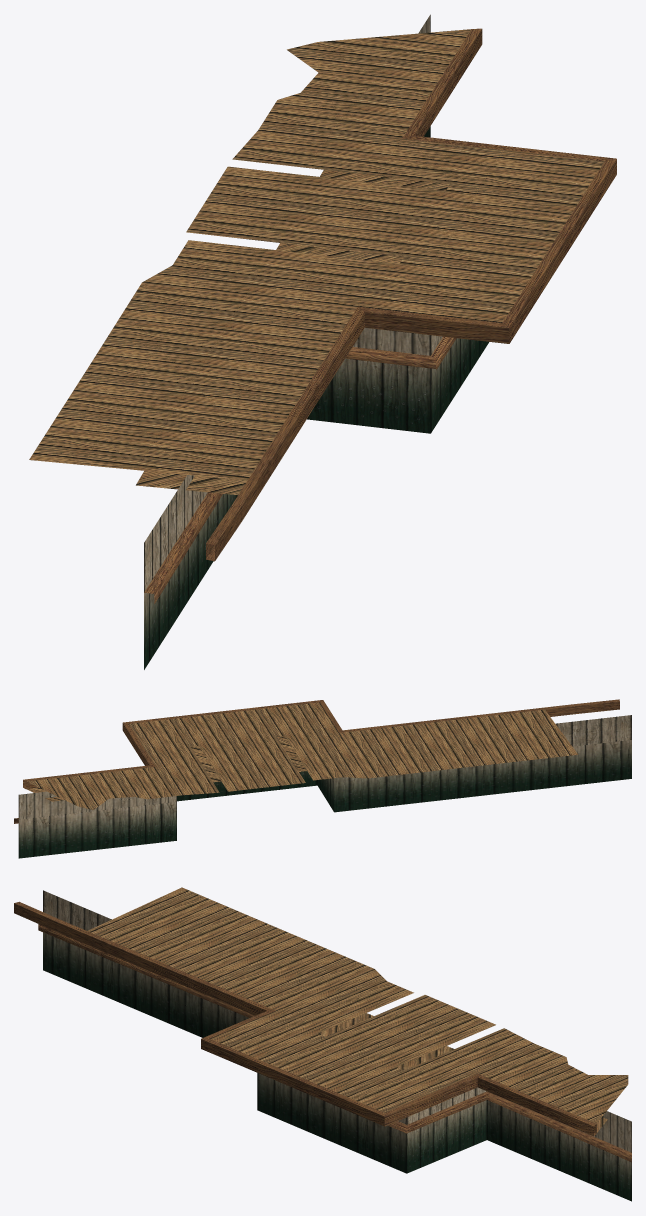
Rendered from LAKETOWN_EXTERIOR_PS_LT_PIERPARTS84847__GX.fbx.
3 renders of one model, top to bottom at view 1: azimuth 30°, elevation 25°; view 2: azimuth 150°, elevation 25°; view 3: azimuth 270°, elevation 25°, orthographic. The views are drawn at different scales.
Parts seen in each view (by area): view 1: LAKETOWN_EXTERIOR_PS_LT_PIERPARTS84847__GX; view 2: LAKETOWN_EXTERIOR_PS_LT_PIERPARTS84847__GX; view 3: LAKETOWN_EXTERIOR_PS_LT_PIERPARTS84847__GX.
Boxes of the visible parts, x1,y1,x2,y2 form: LAKETOWN_EXTERIOR_PS_LT_PIERPARTS84847__GX: (29,14,616,669); LAKETOWN_EXTERIOR_PS_LT_PIERPARTS84847__GX: (14,699,631,858); LAKETOWN_EXTERIOR_PS_LT_PIERPARTS84847__GX: (14,887,631,1201).
Bounding box in the file's own units: 255078 × 40643 × 278605.
Materials: 5 (5 with a texture image).
